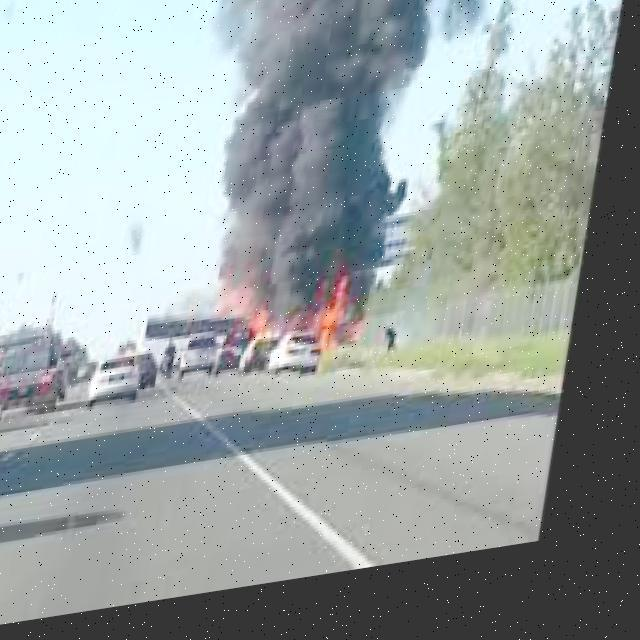Fire: (216, 266, 384, 392)
